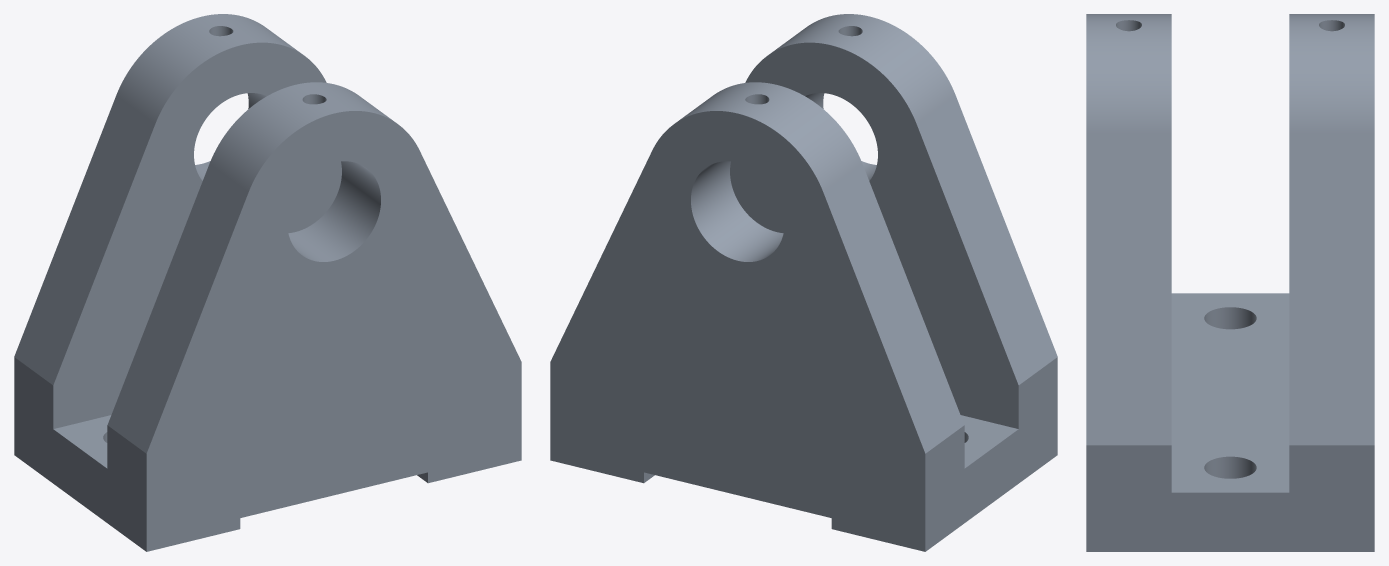
File: ax_fork_bracket.glb
3 views of the same model, side by side, from view 1: azimuth 30°, elevation 25°; view 2: azimuth 150°, elevation 25°; view 3: azimuth 270°, elevation 25° (orthographic). The views are drawn at different scales.
Parts seen in each view (by area): view 1: fork bracket; view 2: fork bracket; view 3: fork bracket.
Part boxes in pixels (x1,y1,x2,y2): fork bracket: (14, 14, 521, 551); fork bracket: (550, 14, 1057, 551); fork bracket: (1086, 14, 1374, 551).
Bounding box in the file's own units: 72 × 72 × 44.
